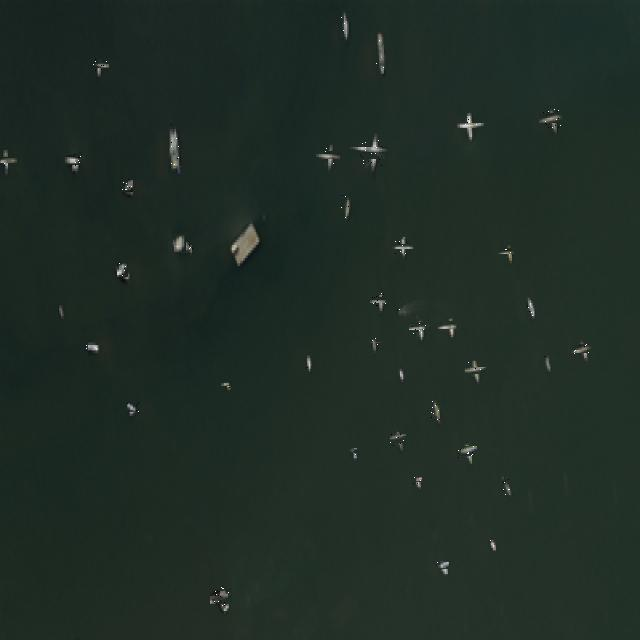boat: (357, 140, 382, 166), (168, 124, 179, 166), (211, 587, 231, 606), (543, 109, 561, 128), (460, 116, 478, 134), (376, 32, 384, 71), (320, 147, 338, 164), (574, 341, 591, 357), (458, 442, 474, 458), (467, 362, 482, 378), (441, 318, 457, 333), (172, 236, 188, 251), (67, 153, 83, 168), (430, 398, 440, 421), (411, 319, 426, 334), (396, 239, 410, 254), (390, 431, 404, 446), (0, 152, 13, 168), (372, 293, 386, 307), (341, 195, 349, 218), (93, 58, 107, 71), (116, 263, 129, 277), (120, 179, 133, 192), (501, 245, 513, 258), (525, 298, 533, 316), (341, 13, 347, 37), (127, 401, 139, 413), (85, 340, 99, 350), (502, 479, 510, 495), (437, 560, 448, 570), (222, 378, 232, 388), (58, 300, 64, 316), (304, 353, 310, 369), (368, 338, 378, 347), (413, 475, 421, 484), (348, 446, 356, 455), (397, 366, 403, 377), (544, 356, 549, 368), (490, 537, 494, 548), (340, 10, 346, 16), (175, 164, 180, 170), (376, 29, 381, 34), (188, 244, 193, 249), (500, 471, 502, 477), (545, 354, 548, 357), (397, 308, 400, 311), (526, 295, 528, 298), (373, 132, 376, 134)
